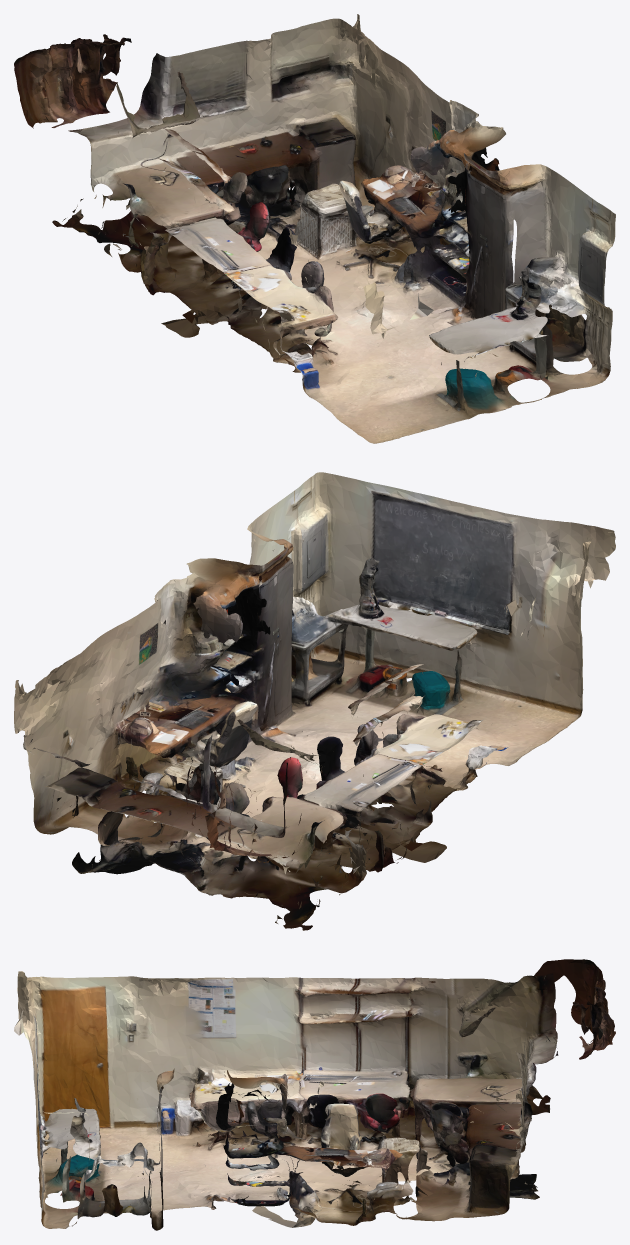
The model's file is scan1_145.sliced.glb.
3 views of the same model, one above another, from view 1: azimuth 30°, elevation 25°; view 2: azimuth 150°, elevation 25°; view 3: azimuth 270°, elevation 25° (orthographic). The views are drawn at different scales.
Bounding box in the file's own units: 4.39 × 2.46 × 8.39.
Materials: 4 (4 with a texture image).
